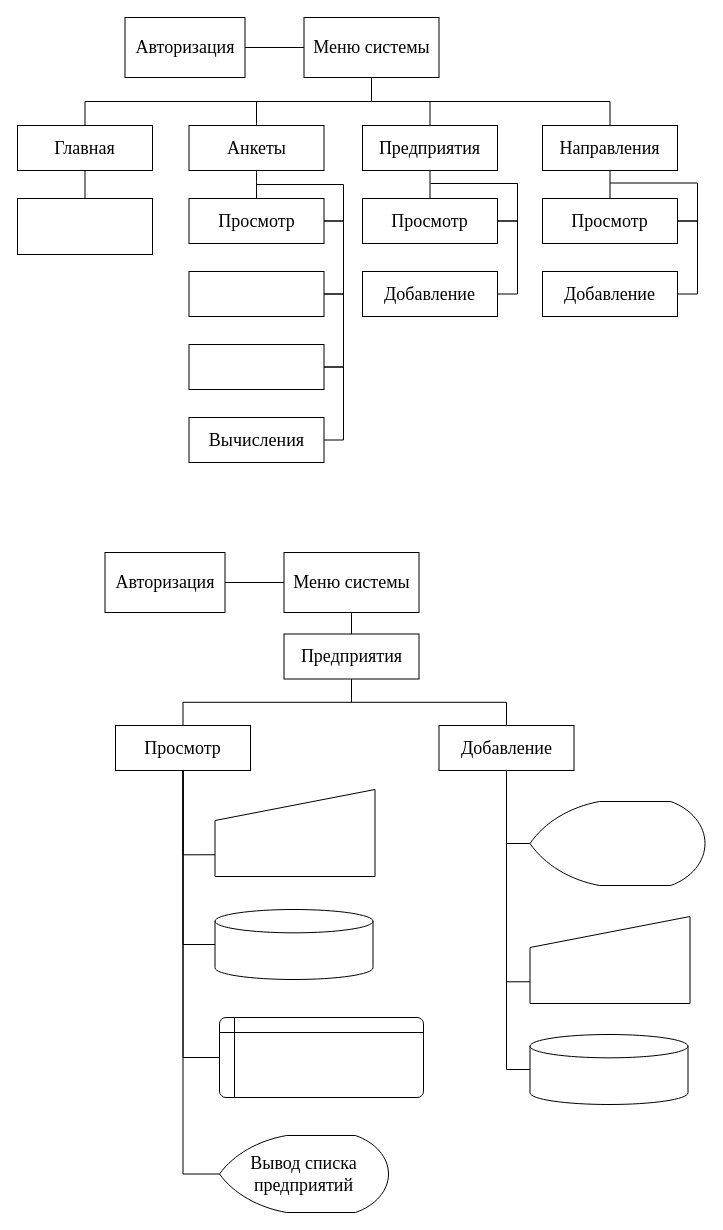
This 723x1230 diagram has some shape labels left out. The centre of each missing label's shape, as x and y in pixels:
Ввод данных: the point at 609,960
Выбор отрасли предприятия: the point at 294,832
Загрузка данных из БД: the point at 293,944
Основная информация: the point at 84,226
Ответы: the point at 256,367
Прорисовка элементов управления: the point at 617,843
Создание: the point at 256,293
Сохранение данных в БД: the point at 608,1069
Формирование списка предприятий: the point at 321,1057
